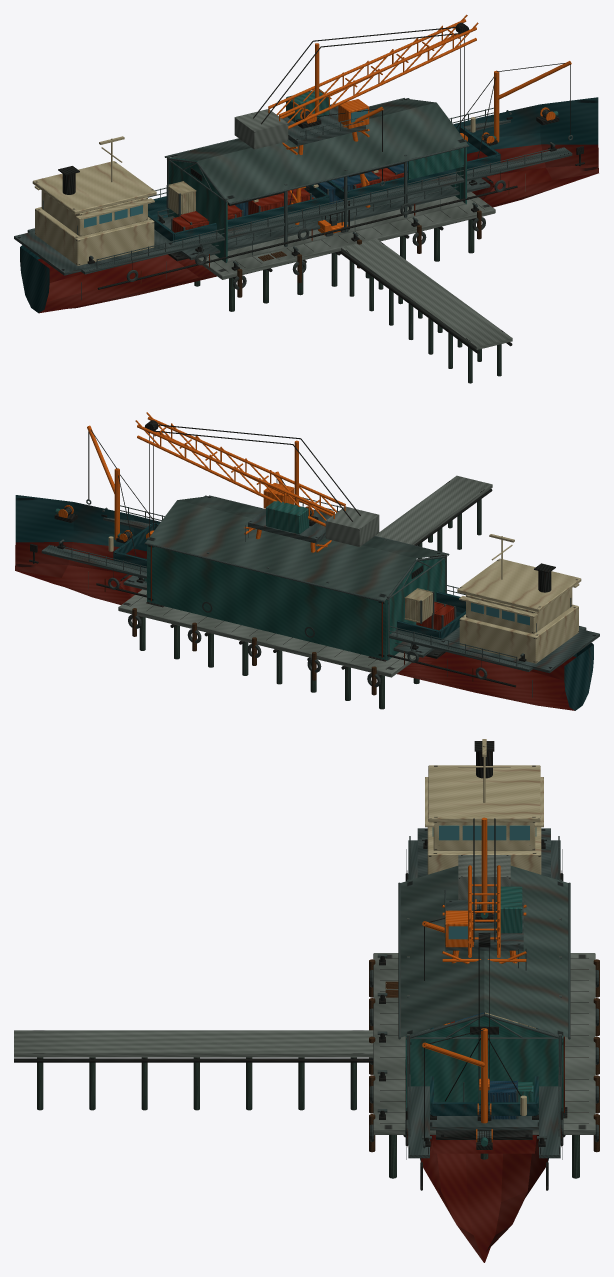
The model's file is coast-harbor.glb.
The picture shows the model from 3 angles, top to bottom: view 1: azimuth 30°, elevation 25°; view 2: azimuth 150°, elevation 25°; view 3: azimuth 270°, elevation 25°; orthographic projection. The views are drawn at different scales.
Parts seen in each view (by area): view 1: cargo-freighter, open-warehouse, loading-pier, harbor-crane, cargo-barge; view 2: cargo-freighter, open-warehouse, loading-pier, harbor-crane, cargo-barge; view 3: cargo-freighter, open-warehouse, loading-pier, harbor-crane, cargo-barge.
Boxes of the visible parts, x1,y1,x2,y2 form: cargo-freighter: [14, 61, 598, 313]; open-warehouse: [164, 98, 469, 262]; loading-pier: [194, 192, 512, 383]; harbor-crane: [234, 14, 478, 224]; cargo-barge: [154, 161, 494, 277]; cargo-freighter: [15, 425, 599, 710]; open-warehouse: [144, 495, 449, 660]; loading-pier: [118, 475, 492, 709]; harbor-crane: [135, 412, 379, 552]; cargo-barge: [119, 575, 459, 675]; cargo-freighter: [405, 739, 563, 1262]; open-warehouse: [385, 866, 570, 1117]; loading-pier: [14, 953, 599, 1178]; harbor-crane: [442, 817, 526, 1090]; cargo-barge: [430, 1012, 538, 1153].
Size of the model in its own units: 66 by 23.75 by 44.84.
Materials: 3 (1 with a texture image).
